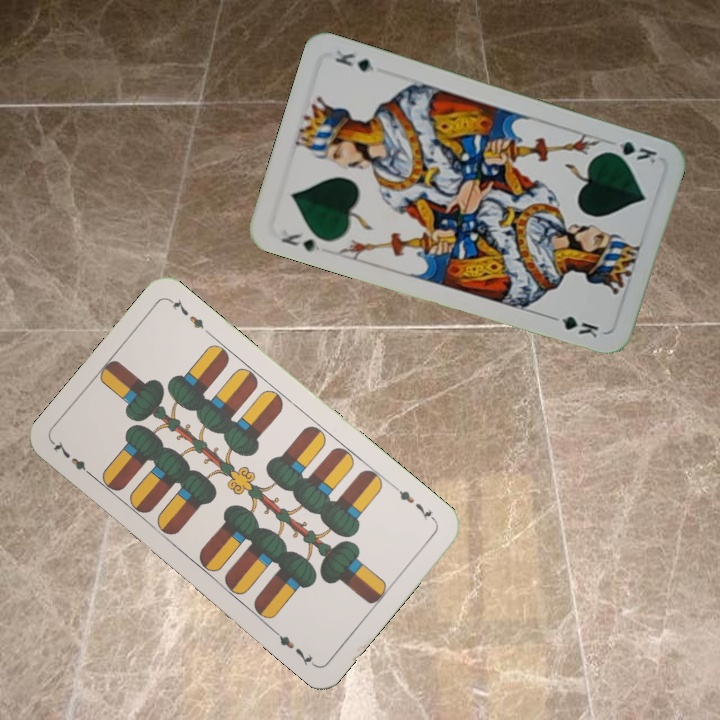E7: (48, 436, 98, 481), (390, 481, 439, 525)
GK: (602, 137, 659, 167), (277, 229, 322, 255)
